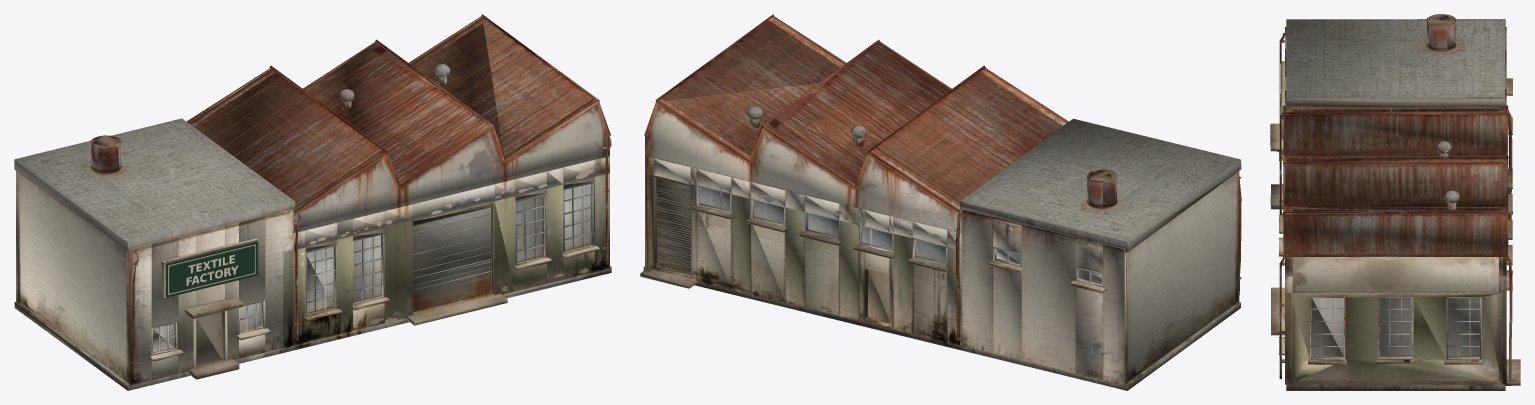
The model's file is textile_factory.glb.
3 renders of one model, left to right at view 1: azimuth 30°, elevation 25°; view 2: azimuth 150°, elevation 25°; view 3: azimuth 270°, elevation 25°, orthographic. The views are drawn at different scales.
Visible parts, largest first — view 1: building; view 2: building; view 3: building.
Part boxes in pixels (box(x1,y1,x2,y2)): building: box(14, 14, 611, 390); building: box(640, 14, 1241, 390); building: box(1270, 14, 1520, 390).
Bounding box in the file's own units: 1.9 × 0.664 × 0.8748.
2 materials, 2 textured.
